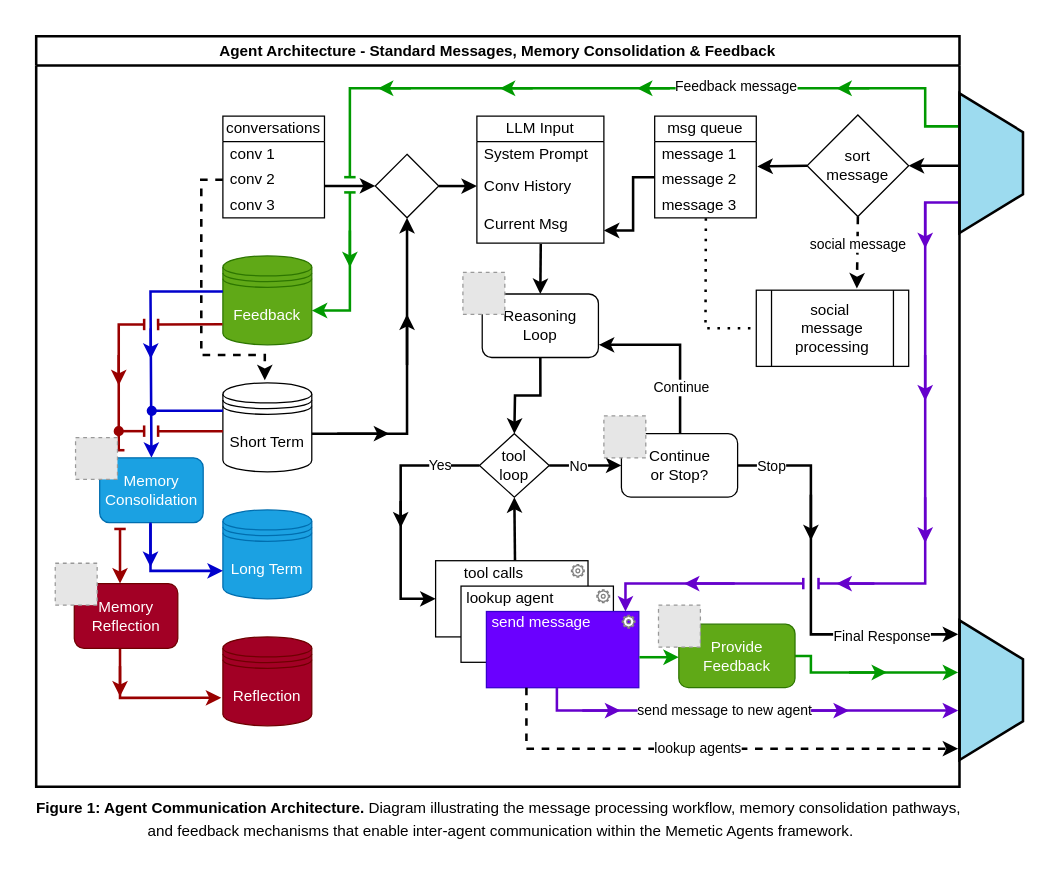
Some shapes in this 1057 by 878 pixel diagram are drawn without their labels. Grey dashed boxes stand in for pictures. Here are the shapes that lost their labels. From the top down, the centre of each, then its label:
At (991,162): "input".
At (991,689): "output".
